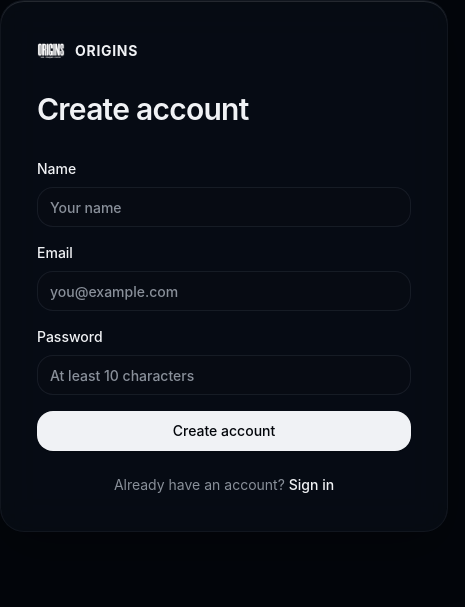
Scenario: AuthForm Component Interactive Tests › surfaces 'Failed to create account. Please try again.' instead of 'Authentication failed.' on generic sign-up error
Type "Tejaswin Amara" into the field labelled "Name" at (224, 207), box [37,187,411,227]
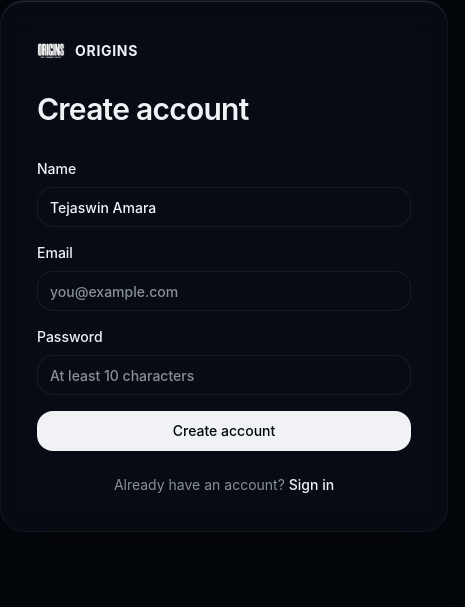
Type "tejaswinamara@gmail.com" into the field labelled "Email" at (224, 291), box [37,271,411,311]
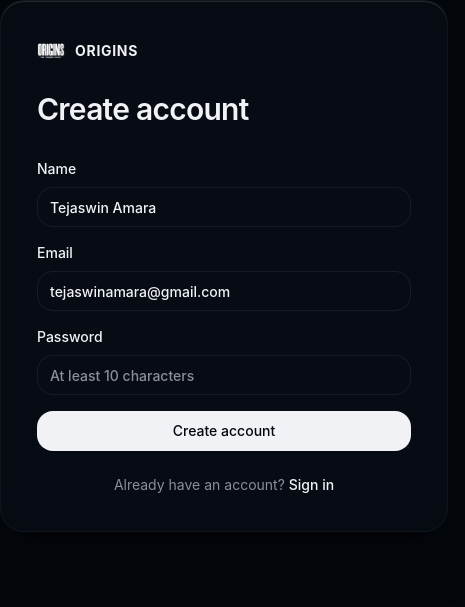
Type "securePassword123" into the password field labelled "Password" at (224, 375), box [37,355,411,395]
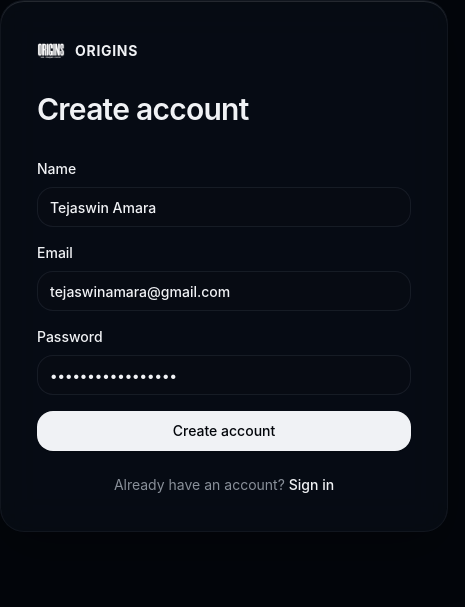
Submit the form from the button "Create account", box [37,411,411,451]
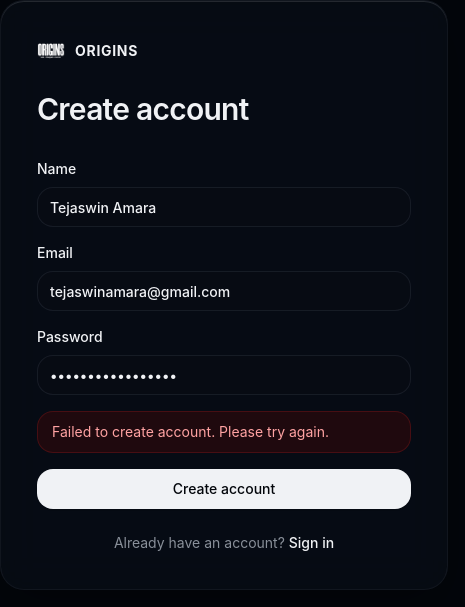
Now the message reads "Failed to create account. Please try again.", box [52,423,329,440]
